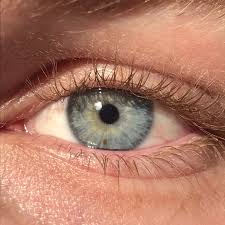pupil: (67, 88, 152, 150)
